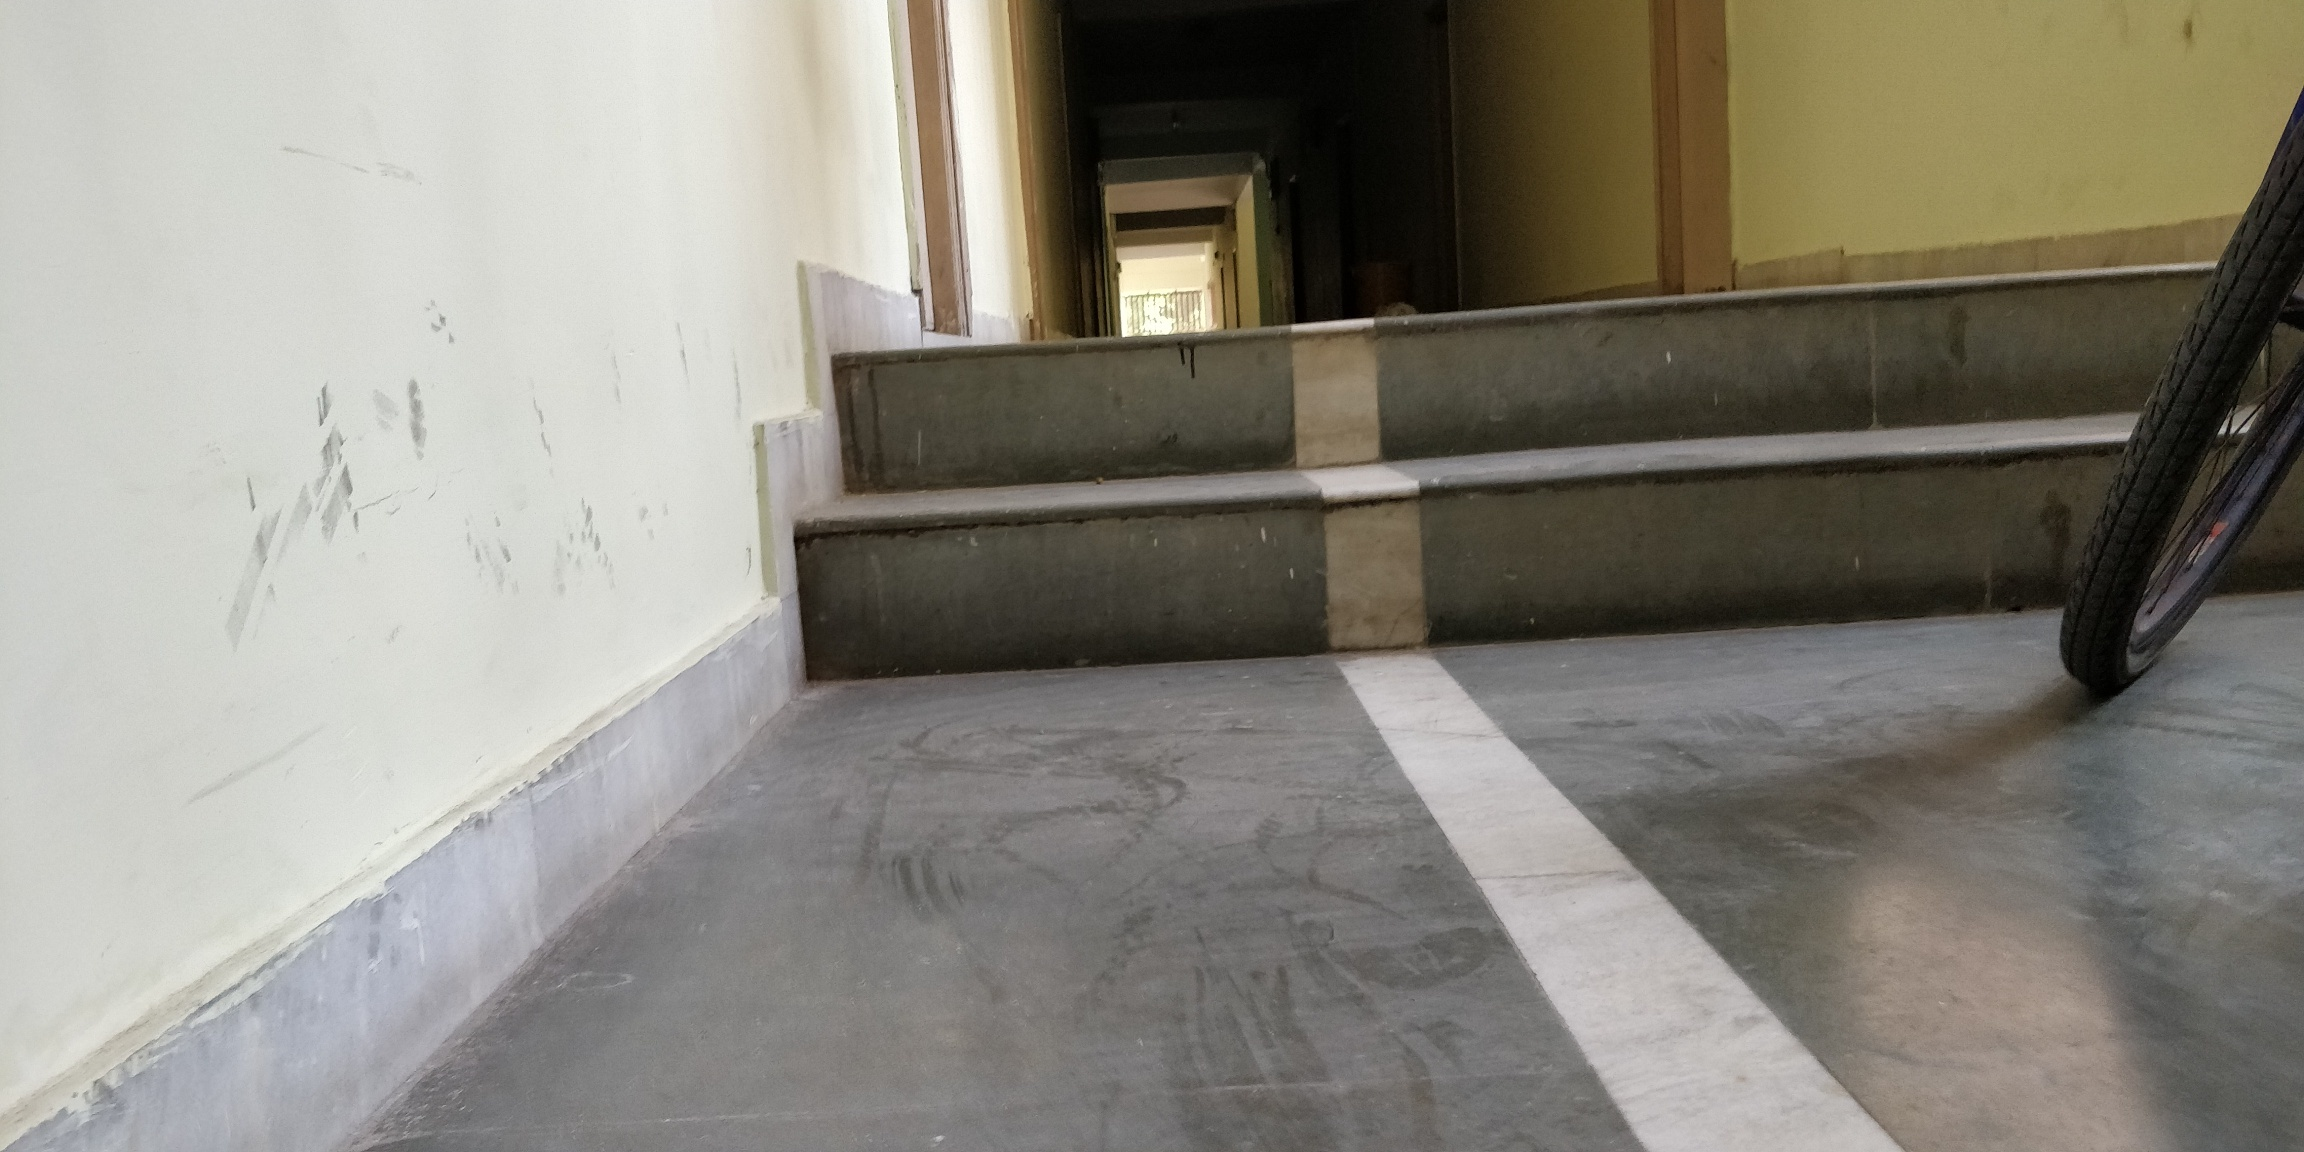stairs_up: (808, 260, 2211, 704)
